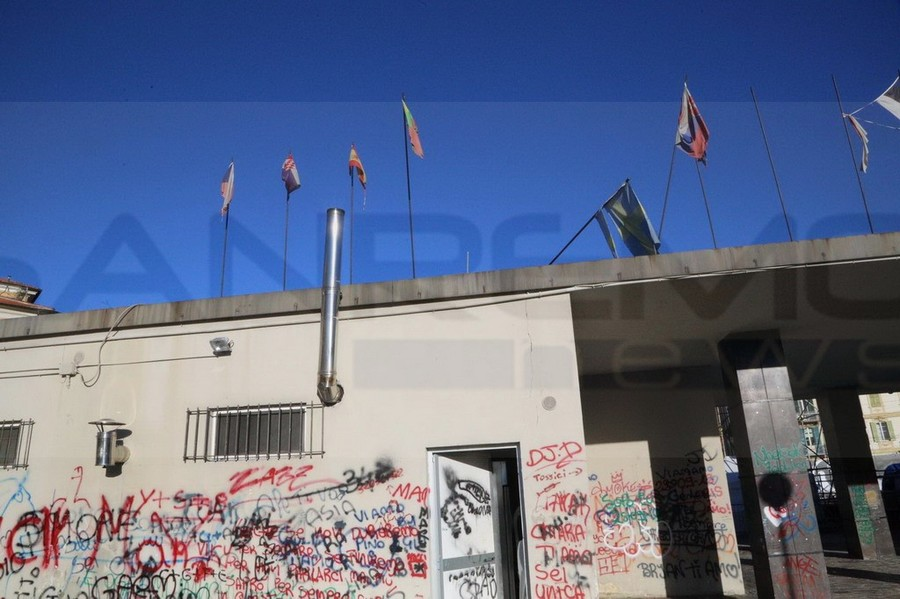Flag: (603, 181, 664, 258), (674, 82, 712, 164), (400, 98, 426, 159), (846, 113, 872, 172), (219, 160, 237, 224), (280, 153, 303, 203), (346, 144, 369, 193), (875, 73, 900, 118)
